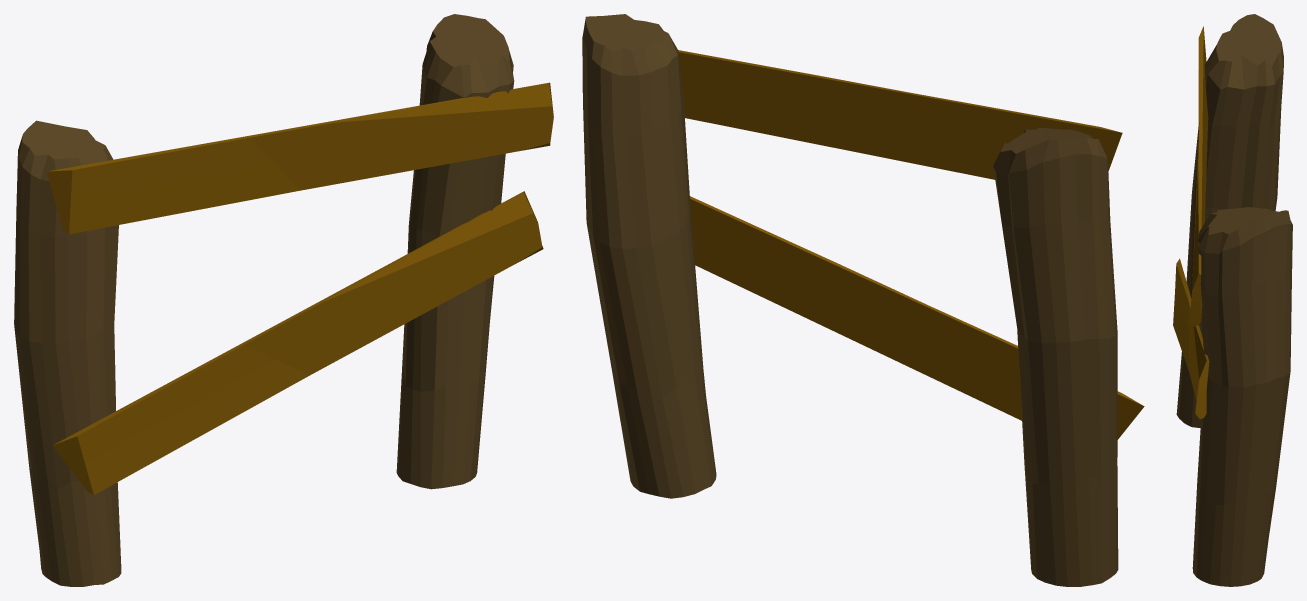
Rendered from Fence.fbx.
3 renders of one model, left to right at view 1: azimuth 30°, elevation 25°; view 2: azimuth 150°, elevation 25°; view 3: azimuth 270°, elevation 25°, orthographic. The views are drawn at different scales.
Parts seen in each view (by area): view 1: Cylinder.001; view 2: Cylinder.001; view 3: Cylinder.001.
Boxes of the visible parts, bbox=[...] form: Cylinder.001: bbox=[14, 14, 553, 586]; Cylinder.001: bbox=[582, 14, 1144, 586]; Cylinder.001: bbox=[1173, 14, 1292, 586].
Bounding box in the file's own units: 261 × 209 × 58.98.
